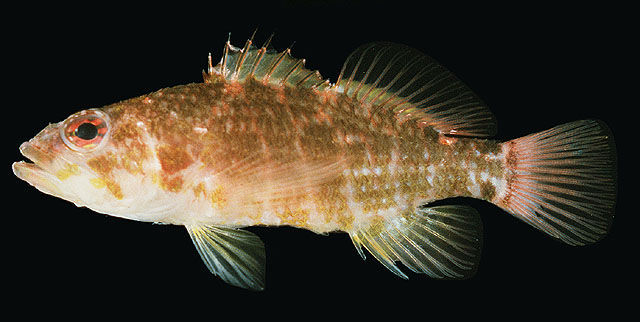fish: (12, 26, 616, 290)
